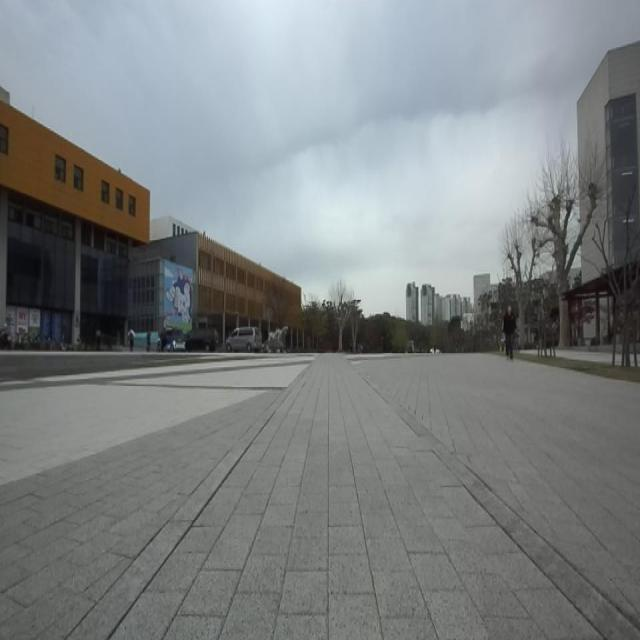sidewalk: (70, 356, 640, 639)
